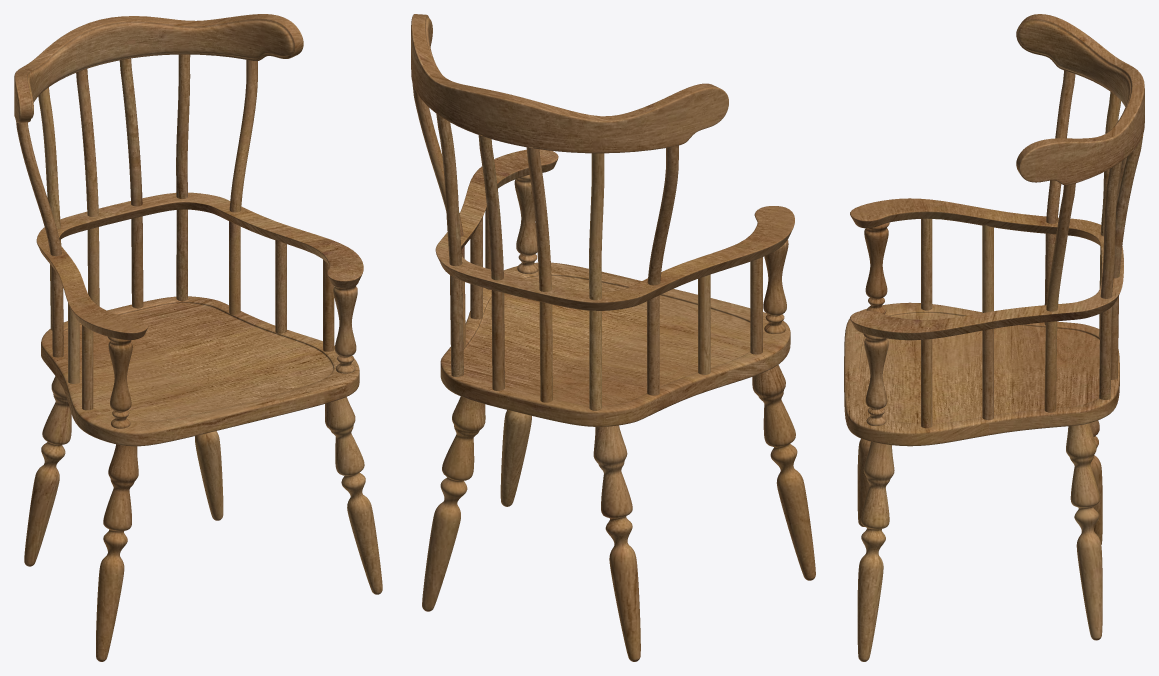
The model's file is Wooden Chair_compressed.glb.
The picture shows the model from 3 angles, left to right: view 1: azimuth 30°, elevation 25°; view 2: azimuth 150°, elevation 25°; view 3: azimuth 270°, elevation 25°; orthographic projection. The views are drawn at different scales.
Visible parts, largest first — view 1: A23D; view 2: A23D; view 3: A23D.
Part boxes in pixels (box(x1,y1,x2,y2)): A23D: box(14, 14, 382, 661); A23D: box(411, 14, 815, 661); A23D: box(844, 14, 1144, 661).
Size of the model in its own units: 0.4312 by 0.7404 by 0.3922.
1 material, 1 textured.
